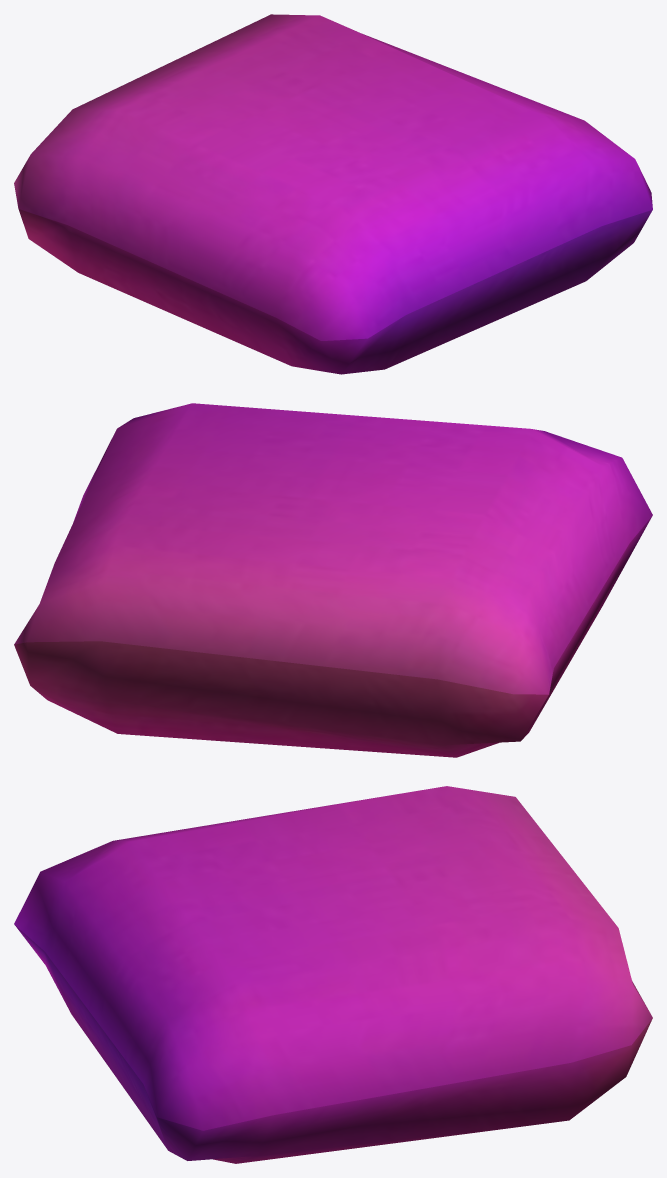
The model's file is dirtySofaCushion2.glb.
The picture shows the model from 3 angles, top to bottom: view 1: azimuth 30°, elevation 25°; view 2: azimuth 150°, elevation 25°; view 3: azimuth 270°, elevation 25°; orthographic projection. The views are drawn at different scales.
Parts seen in each view (by area): view 1: dirtyCushion2; view 2: dirtyCushion2; view 3: dirtyCushion2.
Part boxes in pixels (box(x1,y1,x2,y2)): dirtyCushion2: box(14, 14, 652, 374); dirtyCushion2: box(14, 403, 652, 757); dirtyCushion2: box(14, 786, 652, 1163).
Size of the model in its own units: 0.7972 by 0.2722 by 0.7775.
Materials: 1 (1 with a texture image).
